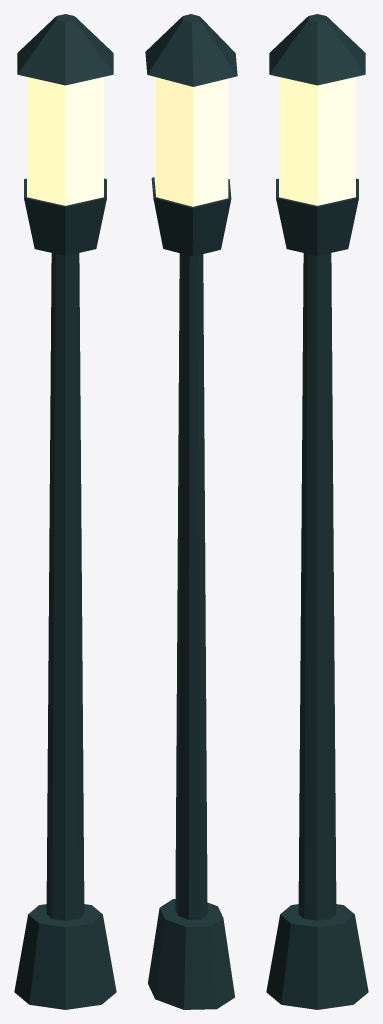
The model's file is lamp_post_classic.fbx.
3 views of the same model, side by side, from view 1: azimuth 90°, elevation 25°; view 2: azimuth 210°, elevation 25°; view 3: azimuth 270°, elevation 25° (orthographic).
Parts seen in each view (by area): view 1: lamp_post_classic; view 2: lamp_post_classic; view 3: lamp_post_classic.
Part boxes in pixels (bbox=[...]): lamp_post_classic: bbox=[14, 14, 116, 1009]; lamp_post_classic: bbox=[145, 14, 237, 1009]; lamp_post_classic: bbox=[266, 14, 368, 1009].
Size of the model in its own units: 0.4 by 4.2 by 0.4.
